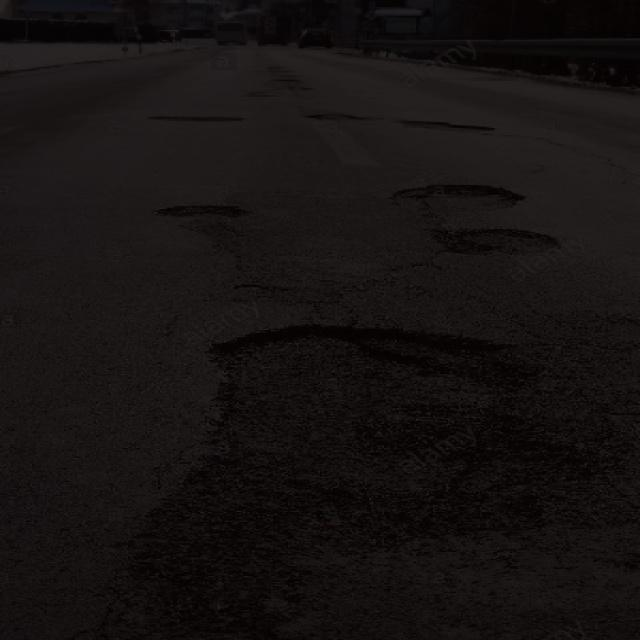Pothole: (197, 328, 579, 566), (392, 176, 534, 218), (431, 219, 565, 261), (147, 195, 247, 229), (397, 110, 501, 138), (234, 67, 315, 101), (147, 109, 250, 130), (303, 110, 370, 126)
